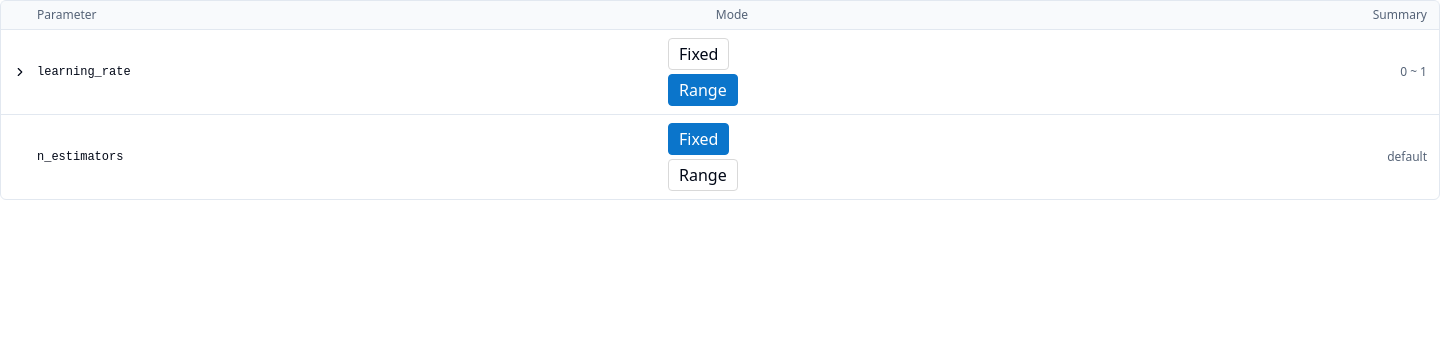
Test: SearchSpaceTable › expands row on click when in range mode
// Click the row to expand
Click the button "learning_rate Fixed Range 0 ~ 1".
click(720, 72)  # box [1,30,1439,114]
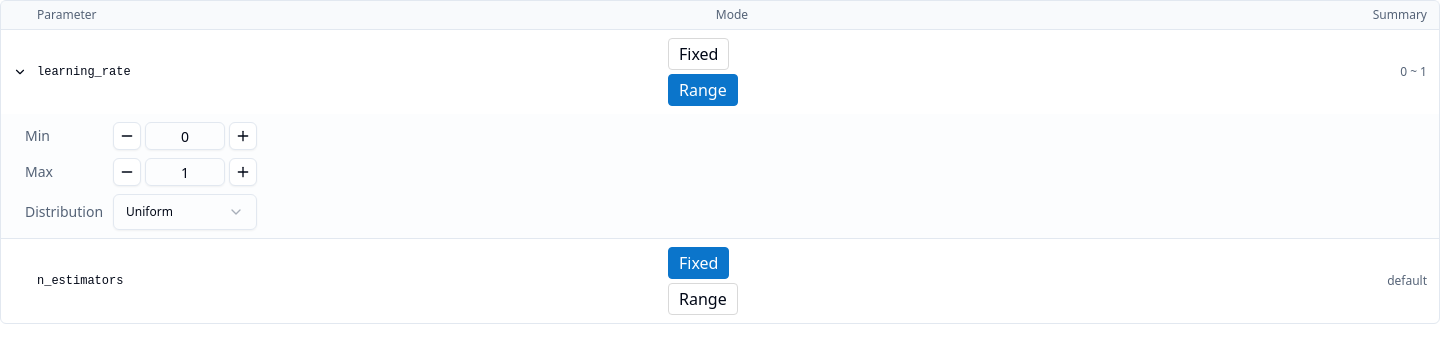
Expected: the text "Min" is shown, [25,126,50,145]
Expected: the text "Max" is shown, [25,162,53,181]
Expected: the text "Distribution" is shown, [25,202,105,222]
